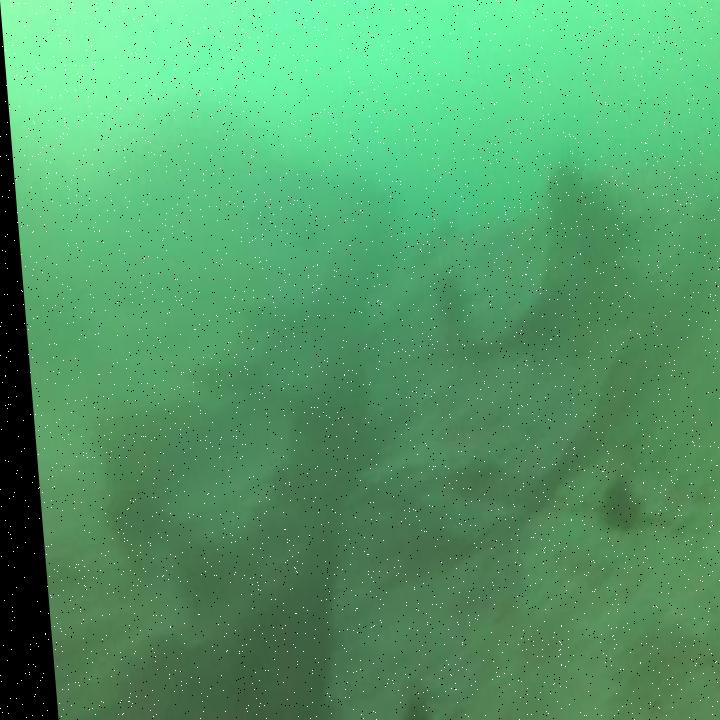echinus: (537, 158, 589, 242), (582, 469, 638, 537), (426, 270, 467, 334), (384, 686, 423, 720)
